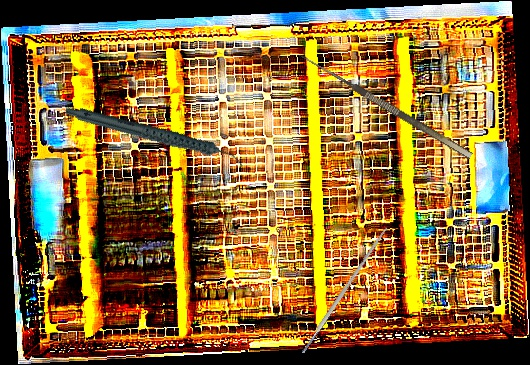Handpiece: (63, 70, 247, 203)
Hook Surgical: (293, 50, 473, 169)
Scalpel Handle: (299, 225, 390, 355)
